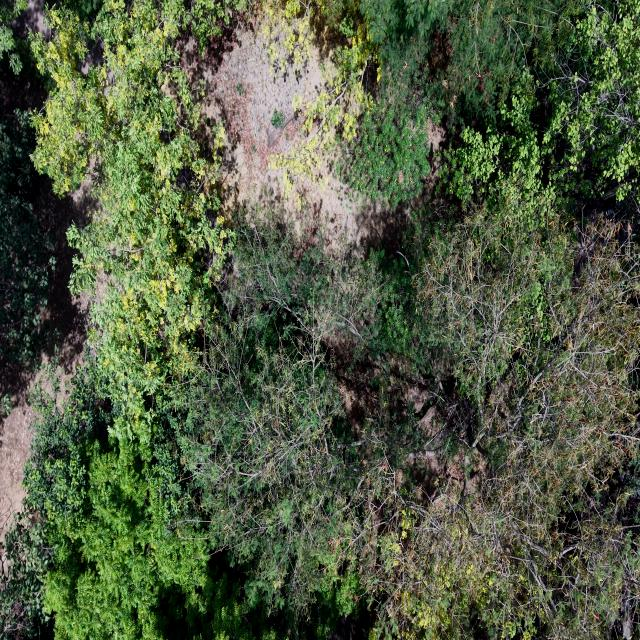DRY_AREA: (183, 21, 446, 255), (183, 22, 445, 253), (182, 19, 410, 250), (182, 23, 409, 251), (203, 26, 370, 243), (183, 21, 325, 223), (183, 25, 326, 224), (184, 28, 323, 222), (184, 28, 323, 221), (184, 25, 323, 210), (185, 26, 322, 209), (34, 179, 95, 383), (34, 179, 89, 379), (34, 181, 87, 377), (0, 366, 39, 539), (0, 397, 33, 540), (12, 0, 51, 39), (12, 0, 50, 39)
VEGETATION_TREE: (0, 0, 639, 639), (27, 212, 639, 637), (185, 210, 639, 637), (388, 211, 639, 637), (33, 0, 228, 446), (0, 360, 273, 639), (181, 225, 358, 622), (26, 363, 270, 639), (347, 2, 639, 204), (0, 112, 54, 365), (347, 102, 432, 207), (0, 514, 52, 638), (0, 0, 26, 73)
